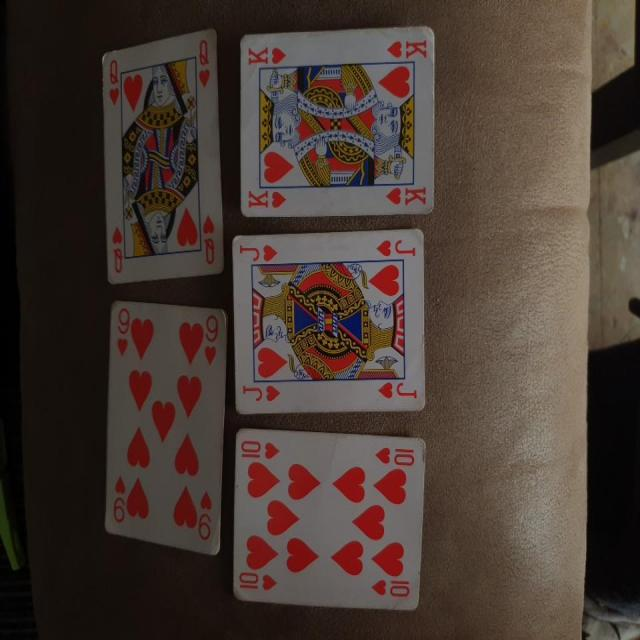10 Hearts: (227, 424, 434, 615)
9 Hearts: (90, 298, 232, 565)
J Hearts: (226, 229, 434, 426)
K Hearts: (232, 30, 444, 223)
Q Hearts: (94, 21, 227, 290)
